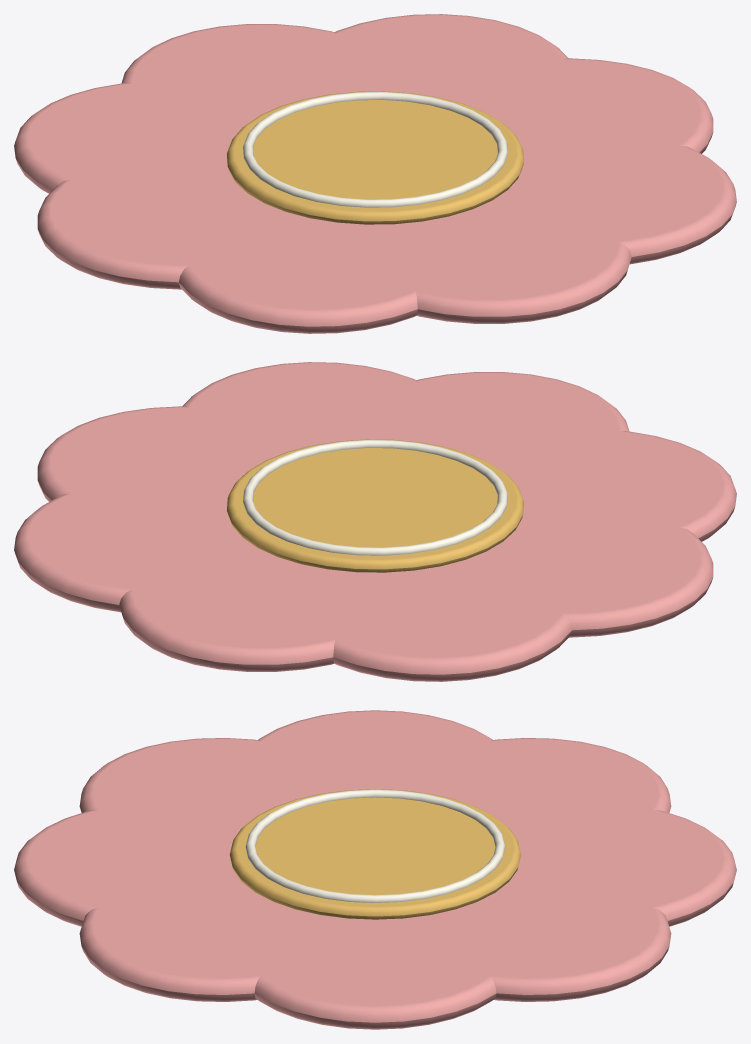
Rendered from rugFlowerPink.glb.
The picture shows the model from 3 angles, top to bottom: view 1: azimuth 30°, elevation 25°; view 2: azimuth 150°, elevation 25°; view 3: azimuth 270°, elevation 25°; orthographic projection. The views are drawn at different scales.
Parts seen in each view (by area): view 1: Flower rug petal.005, Flower rug center, Flower rug petal.006, Flower rug petal.007, Flower rug petal.002, Flower rug petal.003, Flower rug petal, Flower rug petal.001, Flower rug petal.004, Flower center seam; view 2: Flower rug center, Flower rug petal.003, Flower rug petal.002, Flower rug petal.004, Flower rug petal.001, Flower rug petal.006, Flower rug petal, Flower rug petal.005, Flower rug petal.007, Flower center seam; view 3: Flower rug petal, Flower rug center, Flower rug petal.002, Flower rug petal.001, Flower rug petal.004, Flower rug petal.005, Flower rug petal.006, Flower rug petal.003, Flower rug petal.007, Flower center seam.
Part boxes in pixels (x1,y1,x2,y2): Flower rug petal.005: [179, 196, 457, 333]; Flower rug center: [227, 91, 523, 224]; Flower rug petal.006: [341, 183, 631, 323]; Flower rug petal.007: [457, 128, 736, 264]; Flower rug petal.002: [121, 24, 409, 140]; Flower rug petal.003: [14, 82, 281, 197]; Flower rug petal: [427, 58, 713, 176]; Flower rug petal.001: [293, 14, 568, 126]; Flower rug petal.004: [37, 148, 330, 289]; Flower center seam: [243, 92, 507, 207]; Flower rug center: [227, 439, 523, 572]; Flower rug petal.003: [293, 544, 571, 681]; Flower rug petal.002: [119, 531, 409, 671]; Flower rug petal.004: [420, 496, 713, 637]; Flower rug petal.001: [14, 475, 295, 612]; Flower rug petal.006: [341, 372, 629, 490]; Flower rug petal: [37, 406, 323, 524]; Flower rug petal.005: [465, 430, 736, 544]; Flower rug petal.007: [182, 362, 457, 473]; Flower center seam: [243, 440, 507, 555]; Flower rug petal: [242, 903, 508, 1029]; Flower rug center: [229, 789, 521, 919]; Flower rug petal.002: [482, 802, 736, 926]; Flower rug petal.001: [383, 862, 671, 1001]; Flower rug petal.004: [242, 710, 508, 808]; Flower rug petal.005: [79, 738, 366, 855]; Flower rug petal.006: [14, 802, 268, 926]; Flower rug petal.003: [384, 738, 671, 855]; Flower rug petal.007: [79, 869, 368, 1001]; Flower center seam: [245, 789, 505, 902].
Bounding box in the file's own units: 1.74 × 0.1014 × 1.74.
